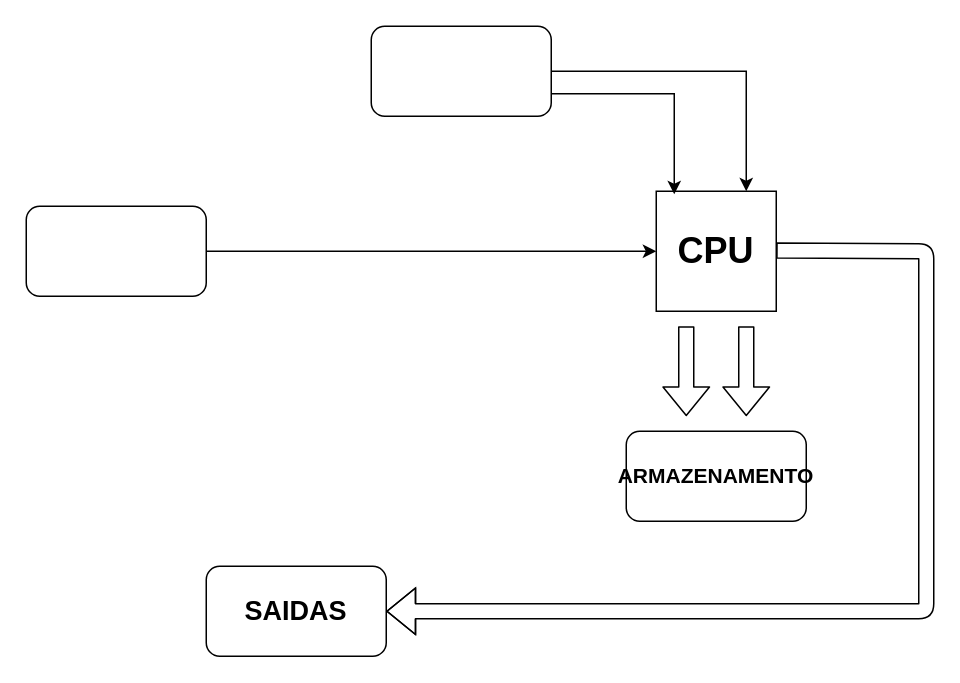
The diagram is 960 pixels wide and 683 high, and some of its shapes have lost their labels. Here are the shapes that lost their labels. From the top down, the centre of each, then its label:
the point at 460,70: RAM ROM
the point at 115,250: ENTRADAS
